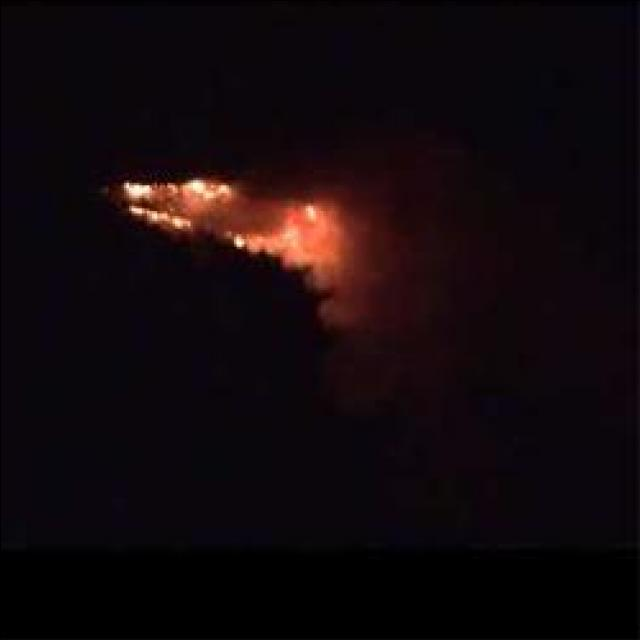fire: (113, 166, 260, 250)
smoke: (243, 194, 351, 286)
